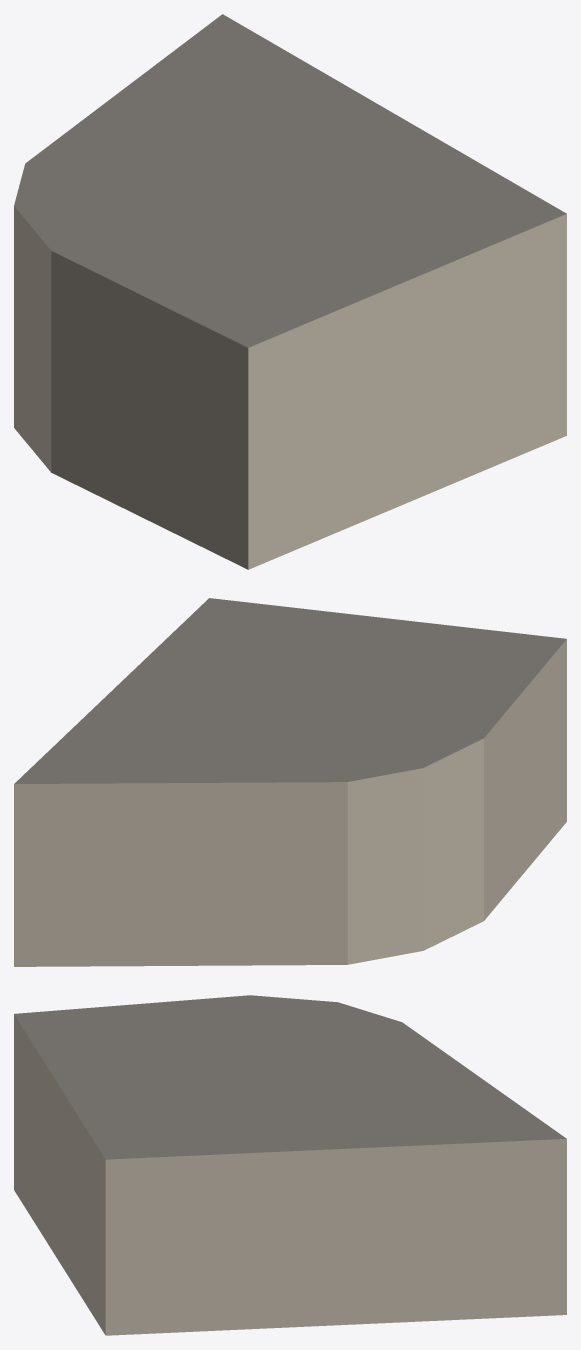
3 renders of one model, top to bottom at view 1: azimuth 30°, elevation 25°; view 2: azimuth 150°, elevation 25°; view 3: azimuth 270°, elevation 25°, orthographic. The views are drawn at different scales.
Visible parts, largest first — view 1: HP-w142741936; view 2: HP-w142741936; view 3: HP-w142741936.
Boxes of the visible parts, x1=… form: HP-w142741936: x1=14, y1=14, x2=566, y2=569; HP-w142741936: x1=14, y1=598, x2=566, y2=966; HP-w142741936: x1=14, y1=995, x2=566, y2=1335.
Size of the model in its own units: 36.04 by 18 by 51.22.
